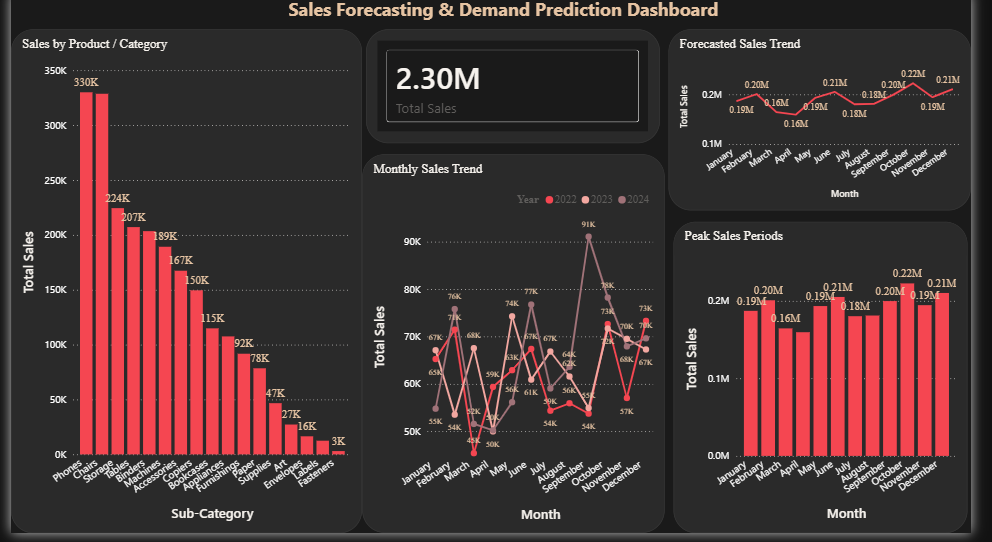

The page's visual inventory and layout, read from the dashboard file:
{"tool":"powerbi","page":{"name":"Sales Forecating & Demand Prediction Dashboard","canvas":[1280,720],"ordinal":0},"visuals":[{"type":"textbox","box":[365,0,595,48.3],"z":0},{"type":"cardVisual","fields":{"Data":["Superstore.Total Sales"]},"box":[473.3,48.3,391.7,151.7],"z":1000},{"type":"lineChart","title":"Monthly Sales Trend","fields":{"Category":["Superstore.Month"],"Series":["Superstore.Year"],"Y":["Superstore.Total Sales"]},"box":[468.3,215,403.3,505],"z":2000},{"type":"clusteredColumnChart","title":"Sales by Product / Category","fields":{"Category":["Superstore.Sub-Category"],"Y":["Superstore.Total Sales"]},"box":[0,48.3,468.3,671.7],"z":3000},{"type":"clusteredColumnChart","title":"Peak Sales Periods","fields":{"Category":["Superstore.Month"],"Y":["Superstore.Total Sales"]},"box":[883.3,305,391.7,415],"z":4000},{"type":"lineChart","title":"Forecasted Sales Trend","fields":{"Category":["Superstore.Order Date.Variation.Date Hierarchy.Month"],"Y":["Superstore.Total Sales"]},"box":[876.7,48.3,403.3,241.7],"z":5000}]}

Visuals, with their boxes in screenshot pixels (x1, y1, x2, y2), scaled from the page's 1280x720 canvas onto the 992x542 screenshot:
textbox: <box>283,0,744,36</box>
cardVisual - Superstore.Total Sales: <box>367,36,670,151</box>
"Monthly Sales Trend" lineChart: <box>363,162,675,541</box>
"Sales by Product / Category" clusteredColumnChart: <box>0,36,363,541</box>
"Peak Sales Periods" clusteredColumnChart: <box>685,230,988,541</box>
"Forecasted Sales Trend" lineChart: <box>679,36,991,218</box>
